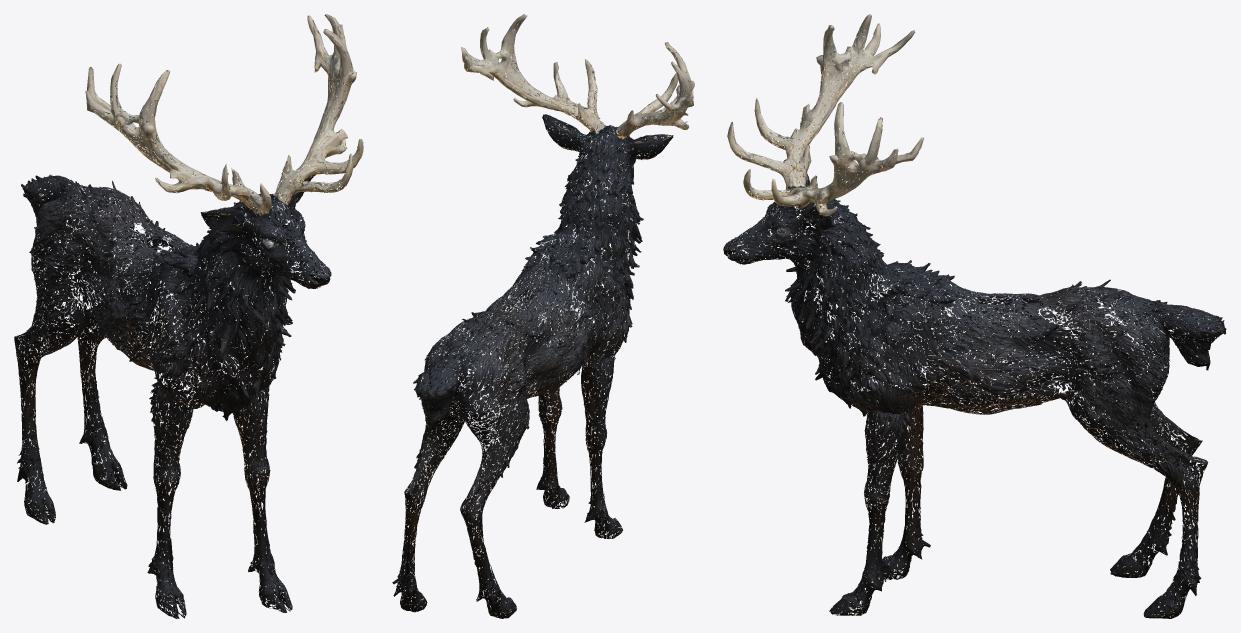
File: shadow_stag.glb
3 views of the same model, side by side, from view 1: azimuth 30°, elevation 25°; view 2: azimuth 150°, elevation 25°; view 3: azimuth 270°, elevation 25° (orthographic). The views are drawn at different scales.
Parts seen in each view (by area): view 1: shadow_stag; view 2: shadow_stag; view 3: shadow_stag.
Boxes of the visible parts, x1,y1,x2,y2 form: shadow_stag: [14, 14, 363, 618]; shadow_stag: [392, 14, 694, 618]; shadow_stag: [723, 14, 1226, 618].
Size of the model in its own units: 0.4874 by 1 by 0.852.
1 material, 1 textured.
